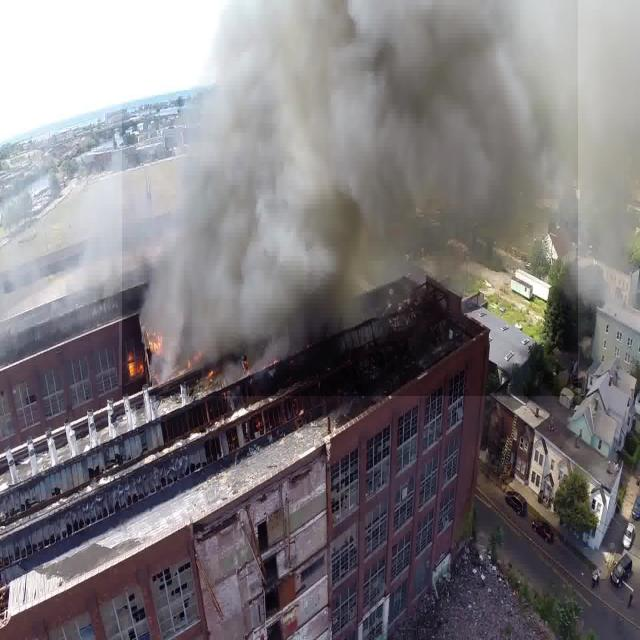Fire: (119, 320, 229, 385)
Smoke: (122, 0, 578, 396)
